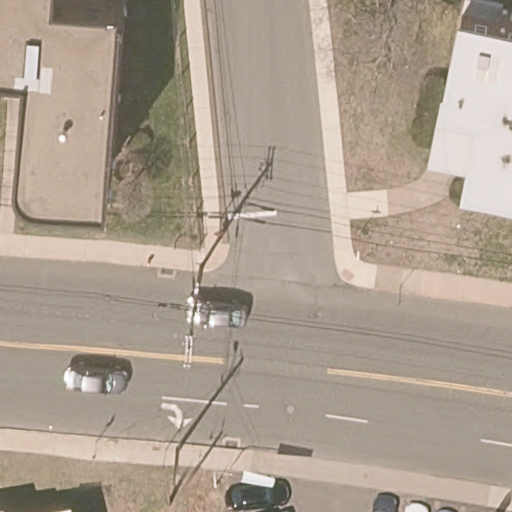DT: (178, 265, 205, 368), (165, 447, 183, 505)
